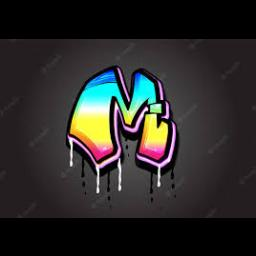m: (61, 62, 181, 170)
